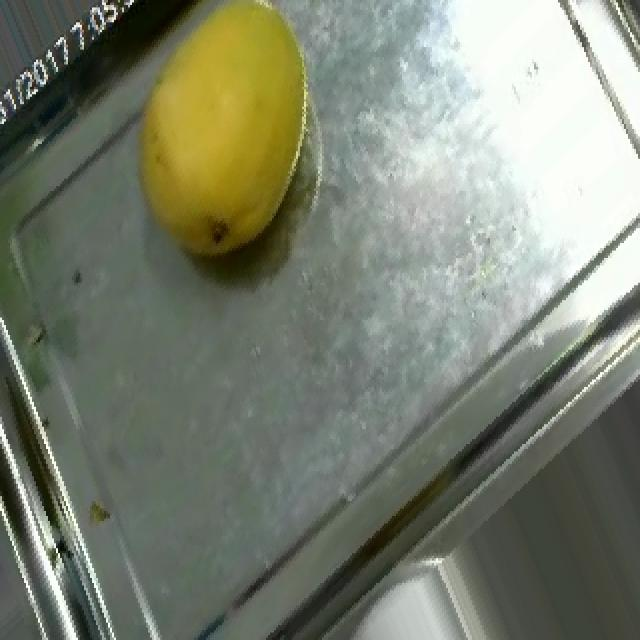fruit: (86, 0, 382, 303)
